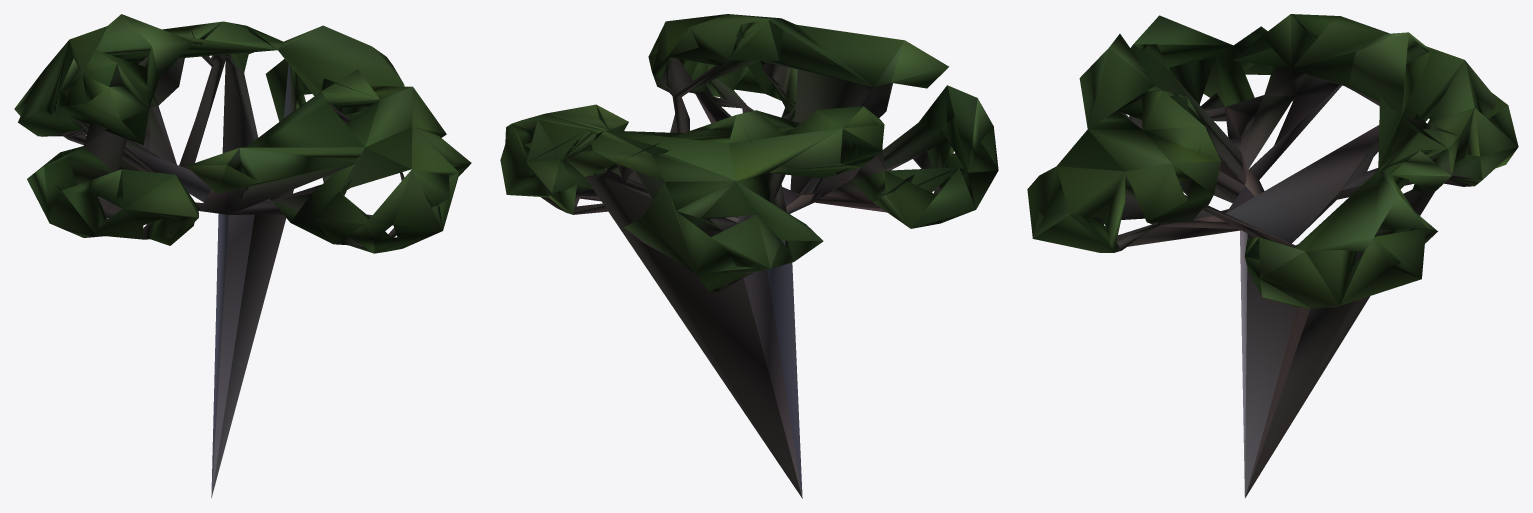
Rendered from pin_laricio_far.glb.
3 renders of one model, left to right at view 1: azimuth 30°, elevation 25°; view 2: azimuth 150°, elevation 25°; view 3: azimuth 270°, elevation 25°, orthographic. The views are drawn at different scales.
Visible parts, largest first — view 1: tripo_part_0; view 2: tripo_part_0; view 3: tripo_part_0.
Boxes of the visible parts, bbox=[...] form: tripo_part_0: bbox=[14, 14, 471, 498]; tripo_part_0: bbox=[500, 14, 998, 498]; tripo_part_0: bbox=[1027, 14, 1518, 498].
Size of the model in its own units: 0.6711 by 0.6793 by 0.6575.
